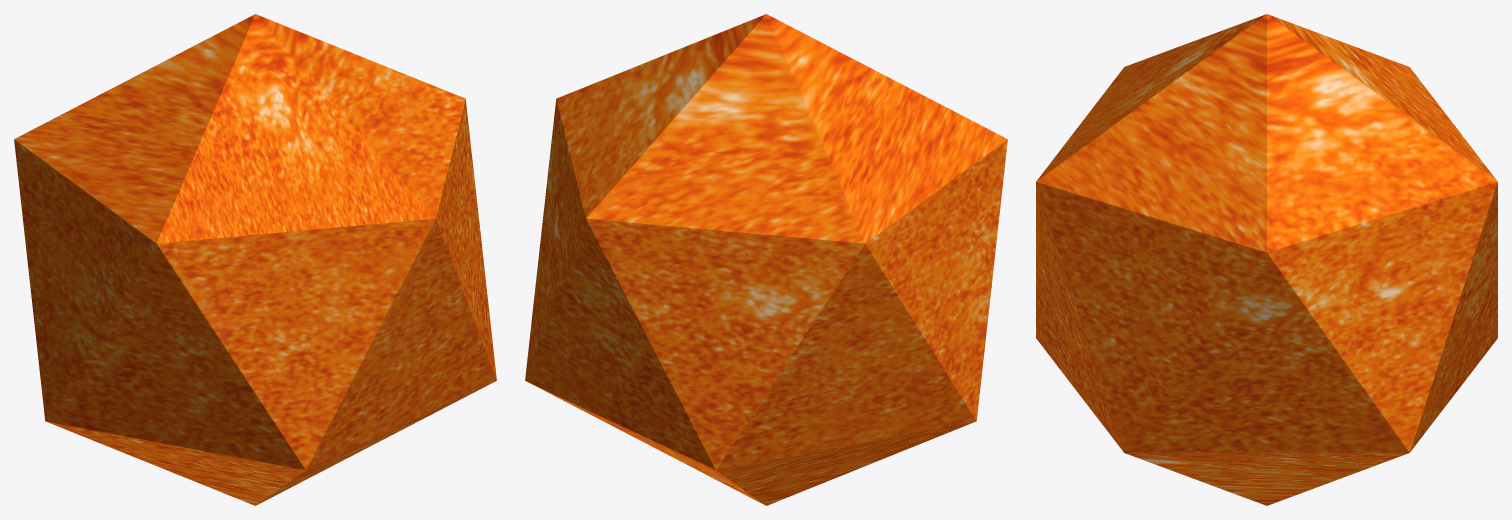
Rendered from sun_min_poly.obj.
3 views of the same model, side by side, from view 1: azimuth 30°, elevation 25°; view 2: azimuth 150°, elevation 25°; view 3: azimuth 270°, elevation 25° (orthographic).
Visible parts, largest first — view 1: Icosphere; view 2: Icosphere; view 3: Icosphere.
Part boxes in pixels (<box>): Icosphere: <box>14,14,496,505</box>; Icosphere: <box>525,14,1007,505</box>; Icosphere: <box>1036,14,1497,505</box>.
Size of the model in its own units: 1.79 by 2 by 1.7.
1 material, 1 textured.
